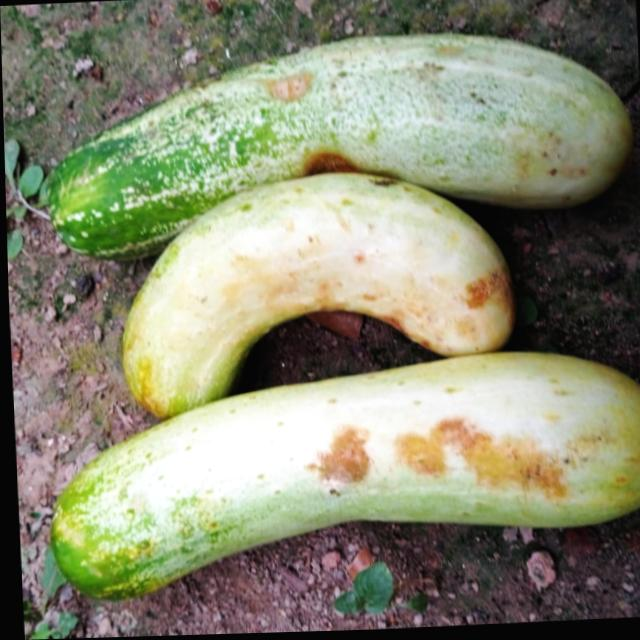Belly-Rot: (300, 414, 577, 524), (317, 261, 513, 342), (296, 139, 357, 193), (256, 69, 320, 110)
